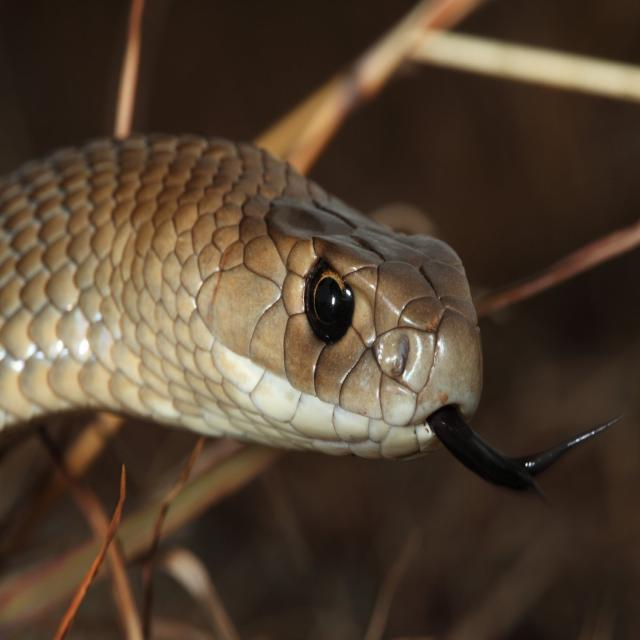Snake: (0, 122, 497, 464)
